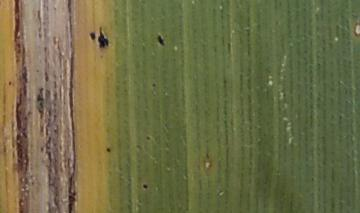tarspot: (96, 24, 110, 51), (154, 34, 167, 48), (88, 30, 96, 43), (104, 146, 113, 155), (6, 80, 15, 88), (144, 134, 151, 142), (141, 183, 148, 190), (150, 82, 158, 88)
